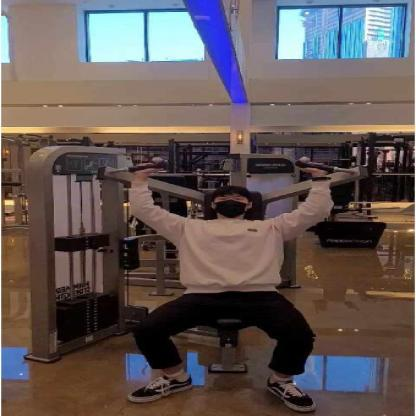shoulder press machine: (0, 122, 416, 416)
